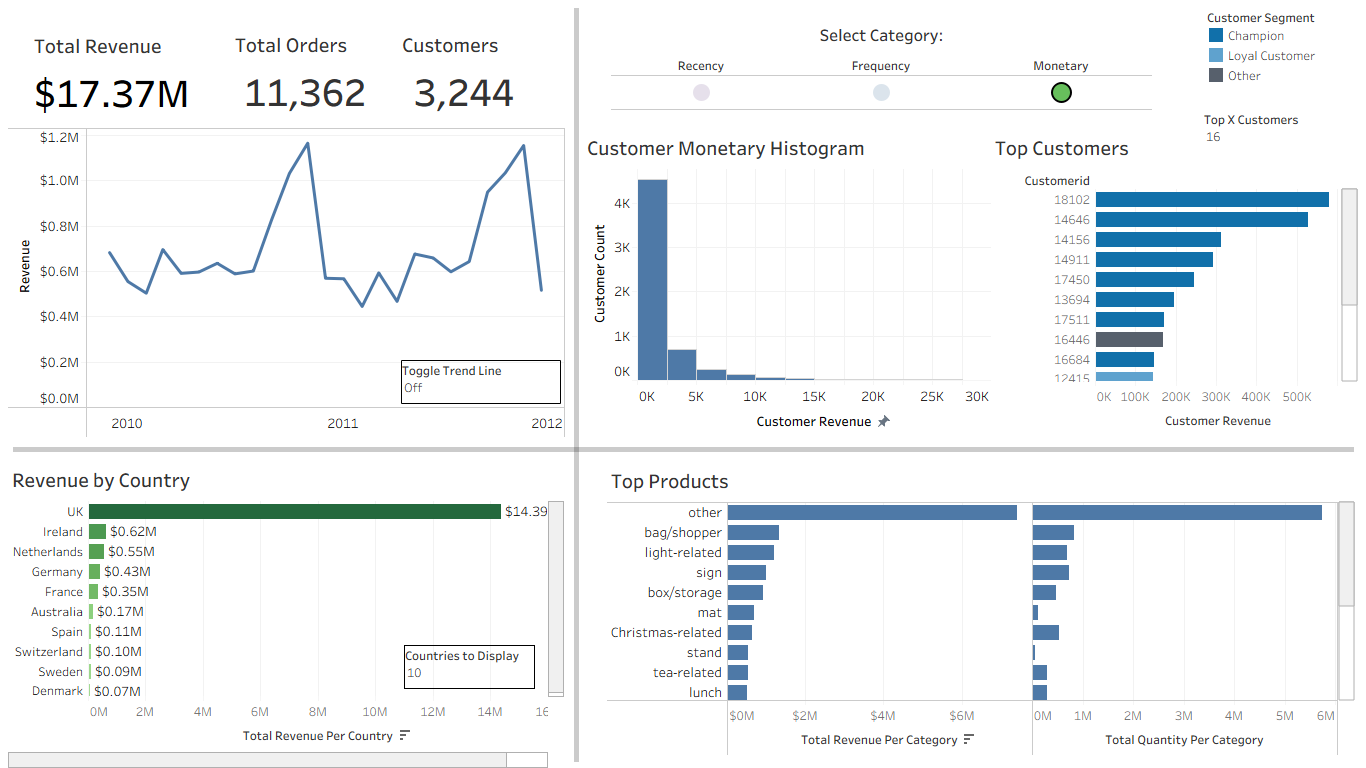

Layout of this report page (visuals, bound fields, positions):
{"tool":"tableau","page":{"name":"Online Retail Dashboard","canvas":[1366,768],"ordinal":0},"visuals":[{"type":"legend","title":"Top Customers by Recency","param":"[federated.1nwfcl11so8oha1eime340idchs9].[none:Calculation_1966499466936337:nk]","box":[1206,7,140,102]},{"type":"blank","box":[8,8,1350,752]},{"type":"blank","box":[574,8,5,754]},{"type":"worksheet","title":"Buttons","mark":"Circle","cols":["Buttons"],"box":[611,18,556,95]},{"type":"worksheet","title":"Total Orders","mark":"Automatic","box":[231,25,161,92]},{"type":"worksheet","title":"Customers","mark":"Automatic","box":[398,25,131,93]},{"type":"worksheet","title":"Total Revenue","mark":"Automatic","box":[30,26,195,94]},{"type":"parameter","param":"[Parameters].[Top X (copy)_1966498347802635]","box":[1204,110,160,46]},{"type":"worksheet","title":"Monthly Revenue","mark":"Automatic","rows":["monthly_revenue","Calculation_1966498341289992"],"cols":["month"],"box":[8,128,557,310]},{"type":"worksheet","title":"Customer Frequency Histogram","mark":"Automatic","rows":["num_orders"],"cols":["Num Orders (bin)"],"box":[583,128,408,310]},{"type":"worksheet","title":"Customer Monetary Histogram","mark":"Automatic","rows":["customer_revenue"],"cols":["Customer Revenue (bin)"],"box":[583,128,408,309]},{"type":"worksheet","title":"Customer Recency Histogram","mark":"Automatic","rows":["days_since_purchase"],"cols":["Days Since Purchase (bin)"],"box":[584,128,405,309]},{"type":"worksheet","title":"Top Customers by Recency","mark":"Automatic","rows":["customerid"],"cols":["days_since_purchase"],"box":[988,128,376,308]},{"type":"worksheet","title":"Top Customers by Number of Orders","mark":"Automatic","rows":["customerid"],"cols":["num_orders"],"box":[991,128,365,310]},{"type":"worksheet","title":"Top Customers by Revenue","mark":"Automatic","rows":["customerid"],"cols":["customer_revenue"],"box":[991,128,367,308]},{"type":"parameter","param":"[Parameters].[Parameter 1966498341109767]","box":[401,360,160,44]},{"type":"blank","box":[13,447,1341,5]},{"type":"worksheet","title":"Revenue by Country","mark":"Automatic","rows":["country"],"cols":["total_revenue_per_country"],"box":[8,460,556,308]},{"type":"worksheet","title":"Top Products","mark":"Automatic","rows":["product_category"],"cols":["total_revenue_per_category","total_quantity_per_category"],"box":[607,461,748,295]},{"type":"parameter","param":"[Parameters].[Parameter 1966497701715968]","box":[404,645,131,44]}]}

Visuals, with their boxes in screenshot pixels (x1, y1, x2, y2), scaled from the page's 1366x768 canvas onto the 1366x768 screenshot:
"Top Customers by Recency" legend: region(1206, 7, 1346, 109)
blank: region(8, 8, 1358, 760)
blank: region(574, 8, 579, 762)
"Buttons" worksheet (Circle marks): region(611, 18, 1167, 113)
"Total Orders" worksheet: region(231, 25, 392, 117)
"Customers" worksheet: region(398, 25, 529, 118)
"Total Revenue" worksheet: region(30, 26, 225, 120)
parameter: region(1204, 110, 1364, 156)
"Monthly Revenue" worksheet: region(8, 128, 565, 438)
"Customer Frequency Histogram" worksheet: region(583, 128, 991, 438)
"Customer Monetary Histogram" worksheet: region(583, 128, 991, 437)
"Customer Recency Histogram" worksheet: region(584, 128, 989, 437)
"Top Customers by Recency" worksheet: region(988, 128, 1364, 436)
"Top Customers by Number of Orders" worksheet: region(991, 128, 1356, 438)
"Top Customers by Revenue" worksheet: region(991, 128, 1358, 436)
parameter: region(401, 360, 561, 404)
blank: region(13, 447, 1354, 452)
"Revenue by Country" worksheet: region(8, 460, 564, 767)
"Top Products" worksheet: region(607, 461, 1355, 756)
parameter: region(404, 645, 535, 689)
